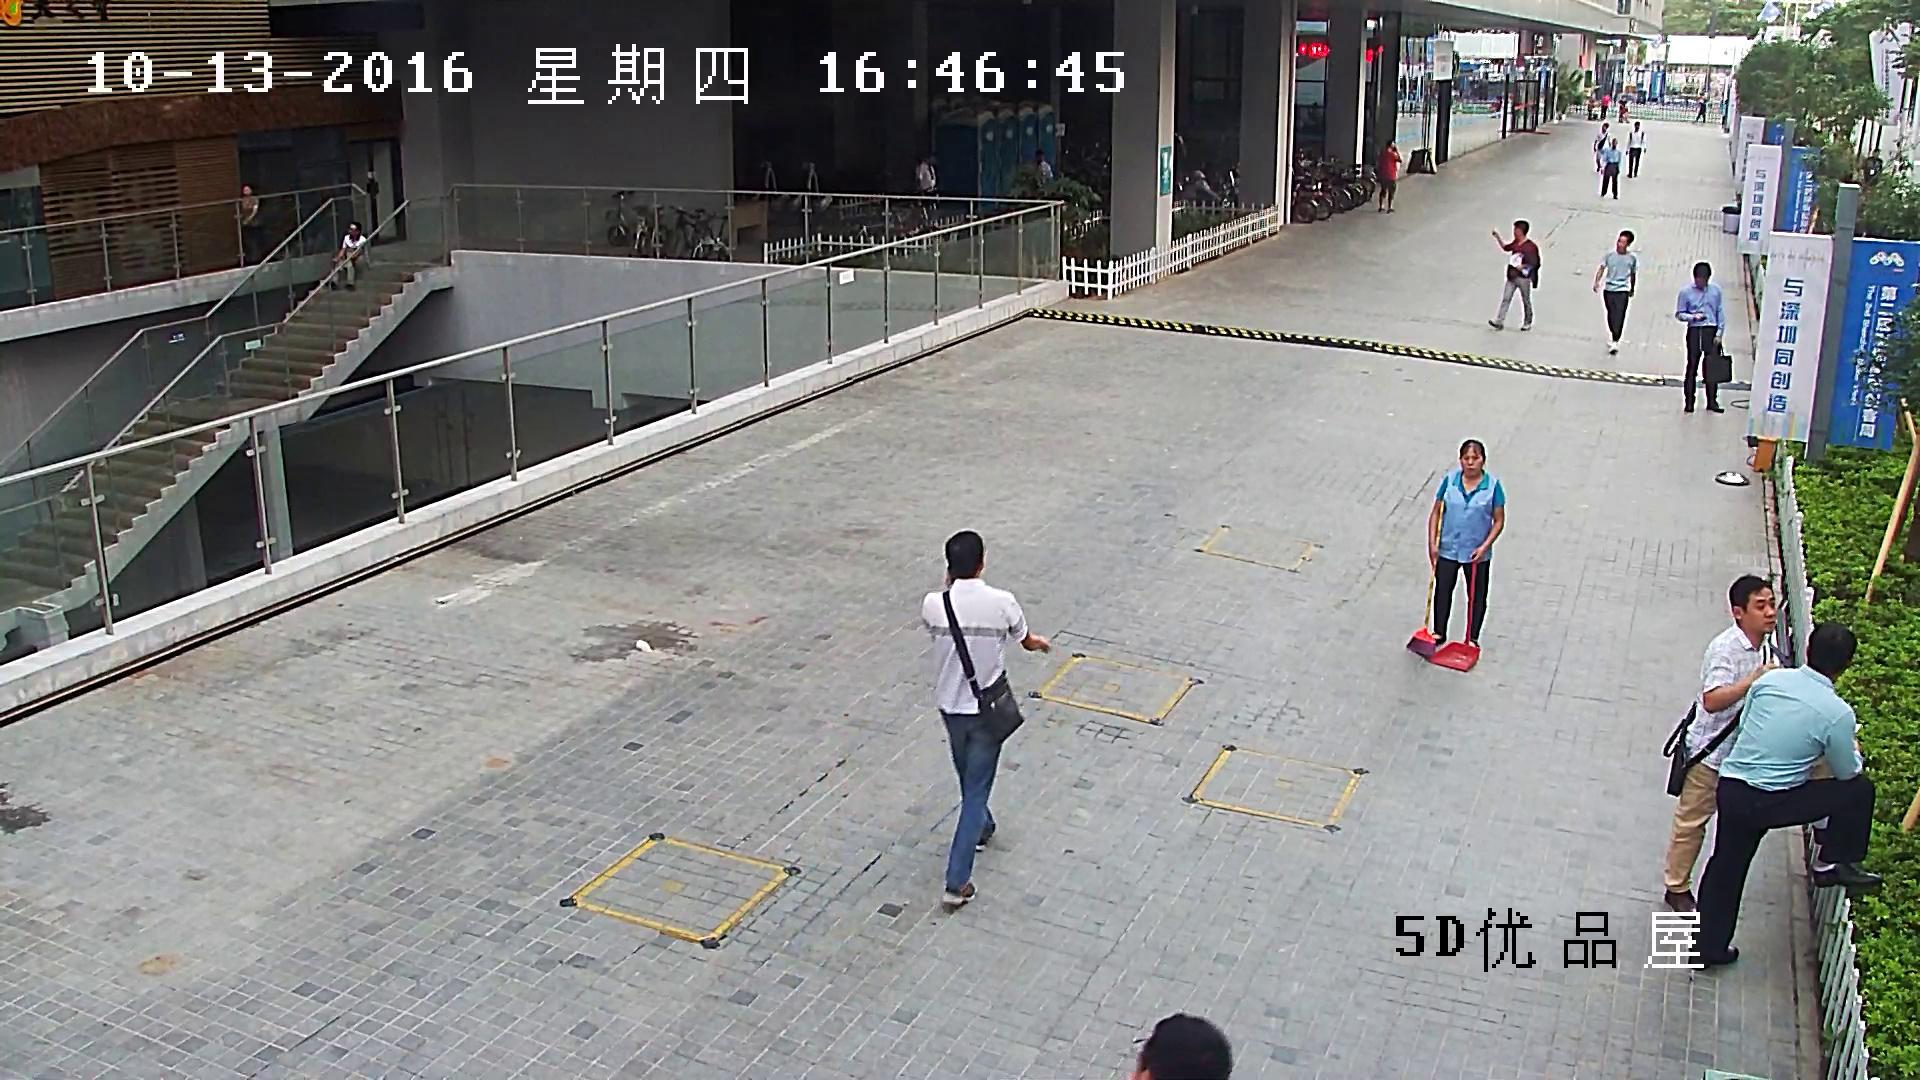person: (1689, 621, 1883, 967), (1656, 574, 1833, 922), (923, 528, 1052, 907), (1405, 437, 1506, 673), (1431, 439, 1506, 647), (1677, 261, 1730, 411), (1487, 219, 1540, 331), (1594, 230, 1637, 354), (232, 184, 271, 263), (329, 223, 370, 288), (1375, 138, 1401, 213), (1600, 137, 1620, 198), (1624, 121, 1646, 176), (915, 155, 938, 199), (1032, 151, 1055, 185), (1862, 148, 1883, 182), (1593, 123, 1607, 171), (1695, 100, 1705, 123), (1601, 92, 1608, 119)
